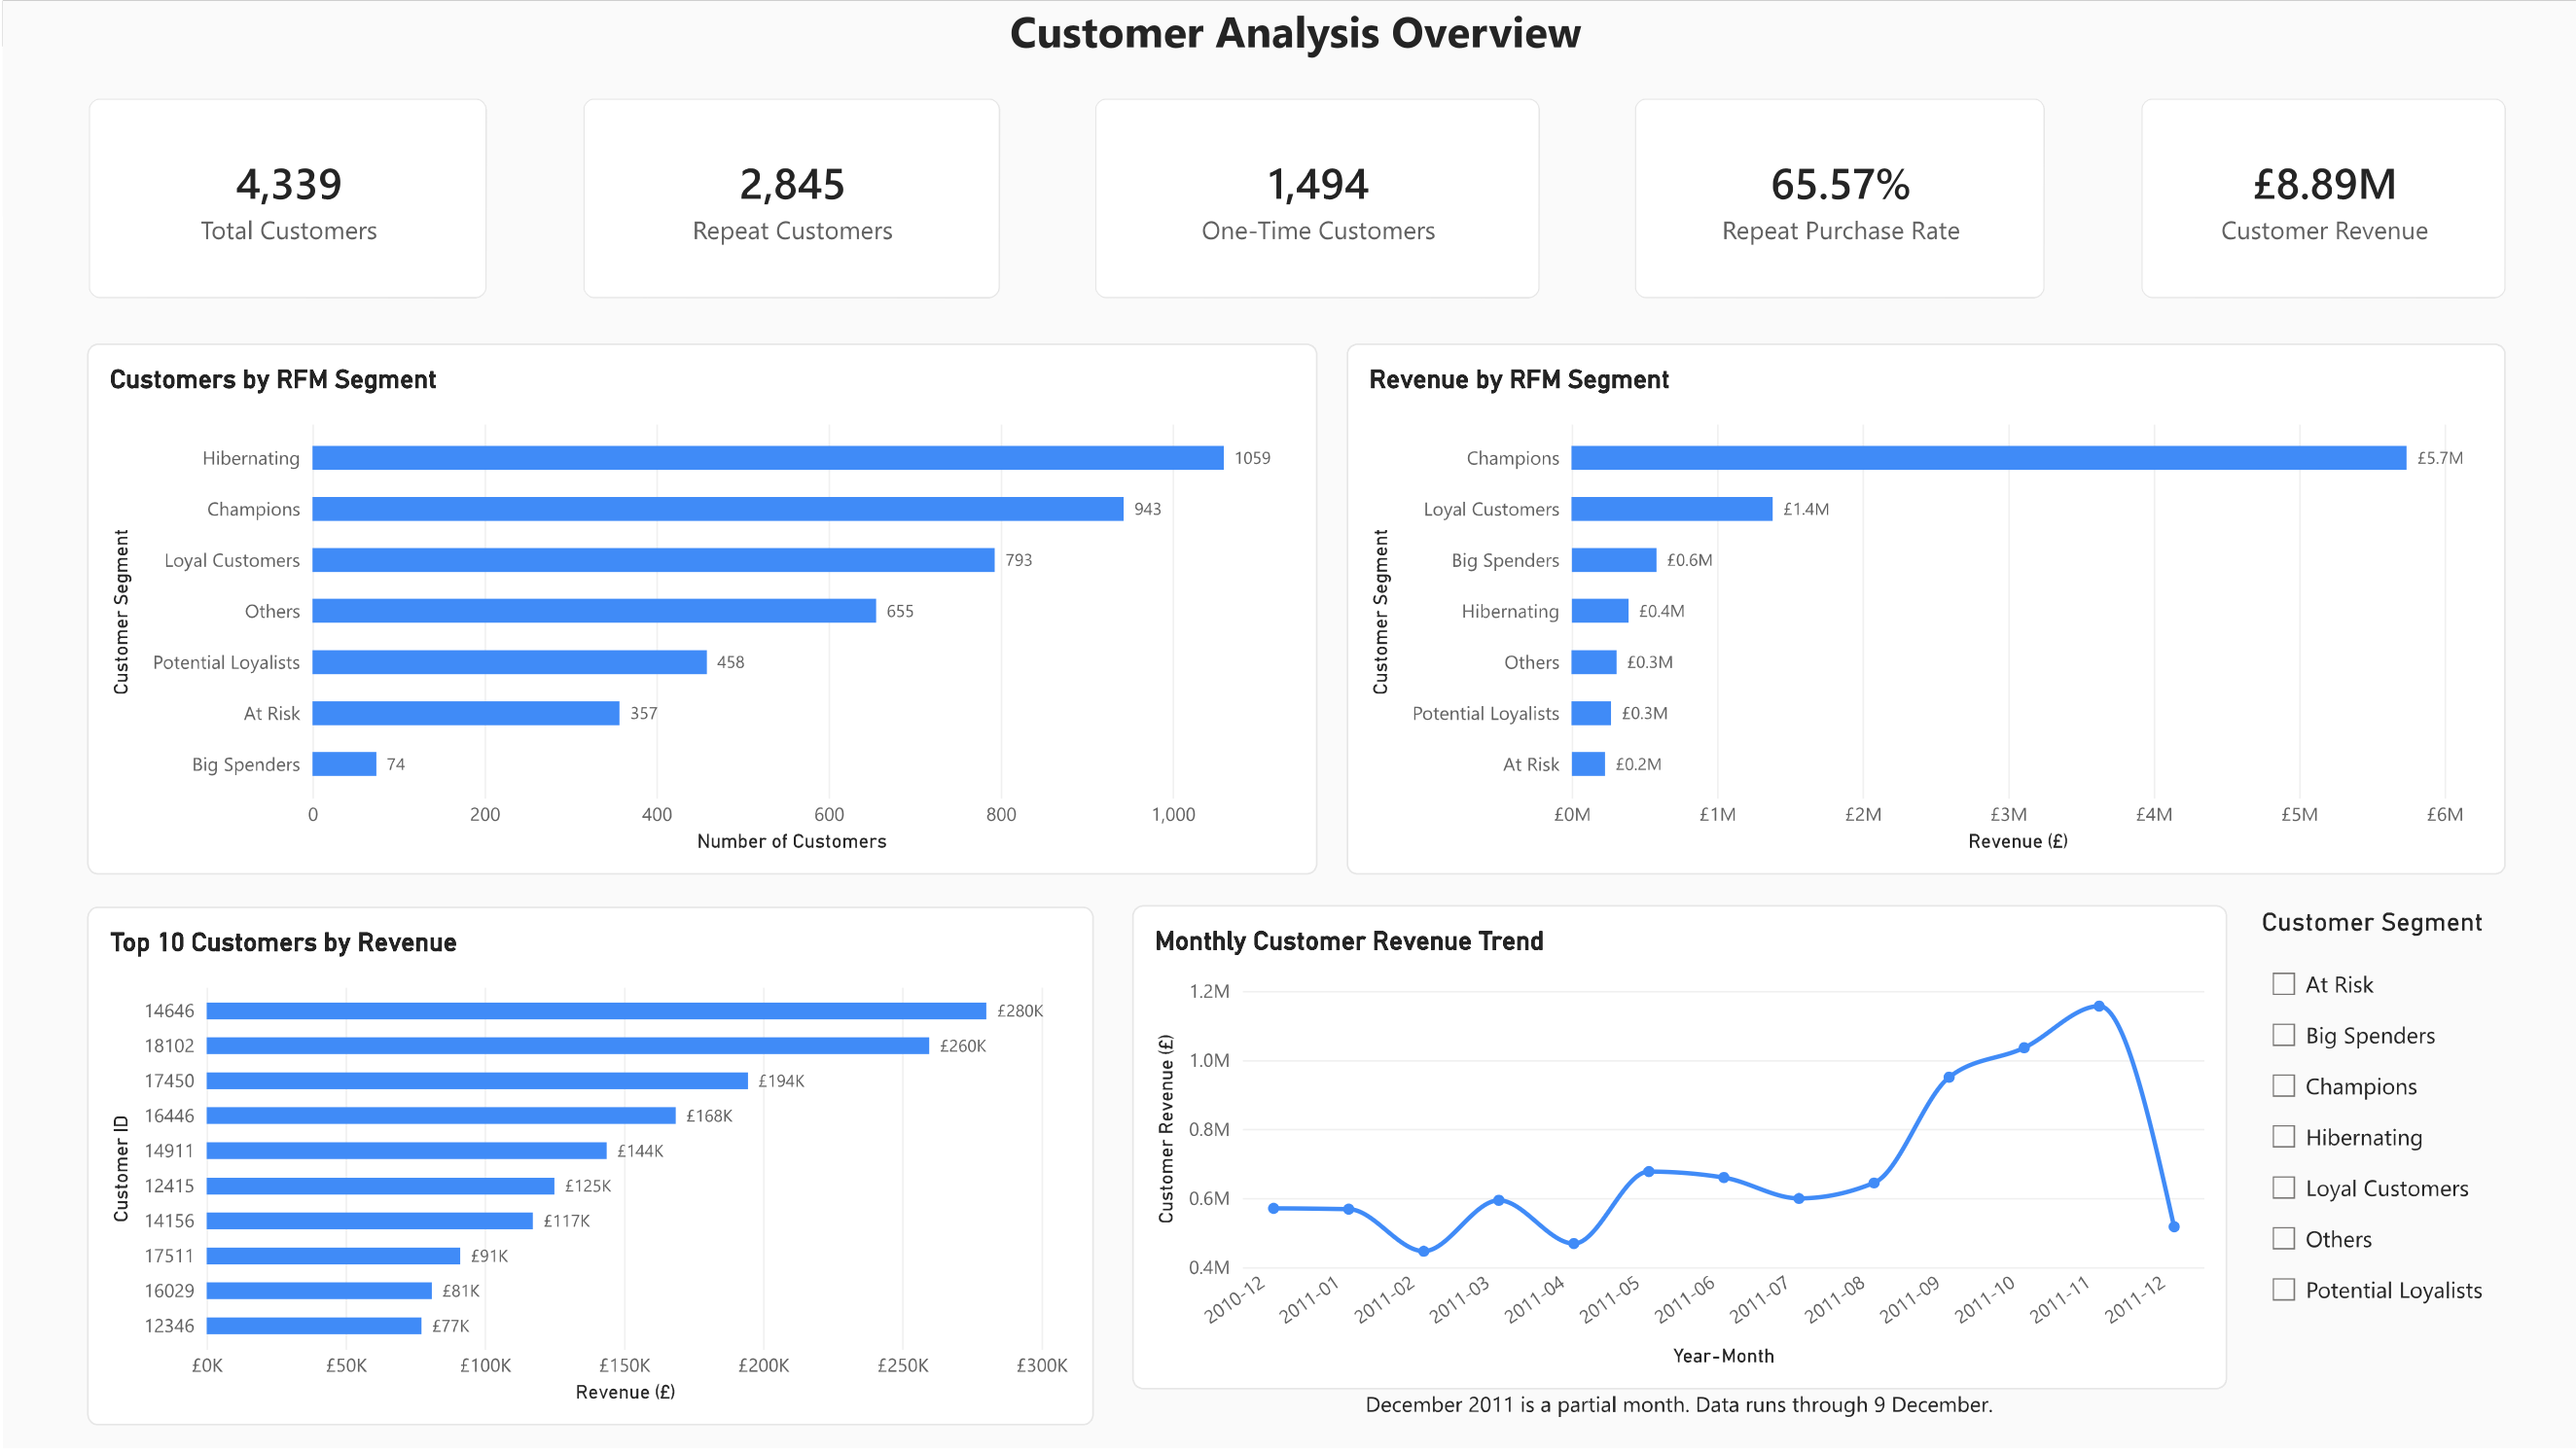

Layout of this report page (visuals, bound fields, positions):
{"tool":"powerbi","page":{"name":"Customer Analysis","canvas":[1920,1080],"ordinal":1},"visuals":[{"type":"textbox","box":[9.6,0,1910.4,55.5],"z":0},{"type":"cardVisual","fields":{"Data":["OnlineRetail.Eligible Total Customers"]},"box":[64.2,72.9,296.9,149.3],"z":1000},{"type":"cardVisual","fields":{"Data":["OnlineRetail.Repeat Customers"]},"box":[432.8,72.9,310.8,149.3],"z":2000},{"type":"cardVisual","fields":{"Data":["OnlineRetail.One-Time Customers"]},"box":[815.2,72.9,331.6,149.3],"z":3000},{"type":"cardVisual","fields":{"Data":["OnlineRetail.Repeat Purchase Rate"]},"box":[1218.5,72.9,305.6,149.3],"z":4000},{"type":"cardVisual","fields":{"Data":["OnlineRetail.Customer Revenue"]},"box":[1595.7,72.9,272.6,149.3],"z":5000},{"type":"clusteredBarChart","title":"Customers by RFM Segment","fields":{"Category":["rfm_customer_segments.Customer_Segment"],"Y":["CountNonNull(rfm_customer_segments.CustomerID)"]},"box":[63.4,255.6,917.4,396.3],"z":6000},{"type":"clusteredBarChart","title":"Revenue by RFM Segment","fields":{"Category":["rfm_customer_segments.Customer_Segment"],"Y":["Sum(rfm_customer_segments.Monetary)"]},"box":[1002.6,255.6,865.9,396.3],"z":7000},{"type":"clusteredBarChart","title":"Top 10 Customers by Revenue","fields":{"Category":["rfm_customer_segments.CustomerID"],"Y":["Sum(rfm_customer_segments.Monetary)"]},"box":[63.4,675.7,750.8,387.4],"z":8000},{"type":"lineChart","title":"Monthly Customer Revenue Trend","fields":{"Category":["DateTable.Year-Month"],"Y":["OnlineRetail.Customer Revenue"]},"box":[843.3,675.1,816.6,361.4],"z":9000},{"type":"slicer","title":"Customer Segment","fields":{"Values":["rfm_customer_segments.Customer_Segment"]},"box":[1686.2,675.7,182.3,388.4],"z":10000},{"type":"textbox","box":[843.3,1036.5,816.6,26.8],"z":10001}]}

Visuals, with their boxes in screenshot pixels (x1, y1, x2, y2), scaled from the page's 1920x1080 canvas onto the 2576x1453 screenshot:
textbox: 13, 0, 2575, 75
cardVisual - OnlineRetail.Eligible Total Customers: 87, 98, 484, 299
cardVisual - OnlineRetail.Repeat Customers: 581, 98, 998, 299
cardVisual - OnlineRetail.One-Time Customers: 1093, 98, 1539, 299
cardVisual - OnlineRetail.Repeat Purchase Rate: 1635, 98, 2045, 299
cardVisual - OnlineRetail.Customer Revenue: 2141, 98, 2507, 299
"Customers by RFM Segment" clusteredBarChart: 85, 344, 1316, 877
"Revenue by RFM Segment" clusteredBarChart: 1345, 344, 2507, 877
"Top 10 Customers by Revenue" clusteredBarChart: 85, 909, 1092, 1431
"Monthly Customer Revenue Trend" lineChart: 1131, 908, 2227, 1395
"Customer Segment" slicer: 2263, 909, 2507, 1432
textbox: 1131, 1395, 2227, 1431
